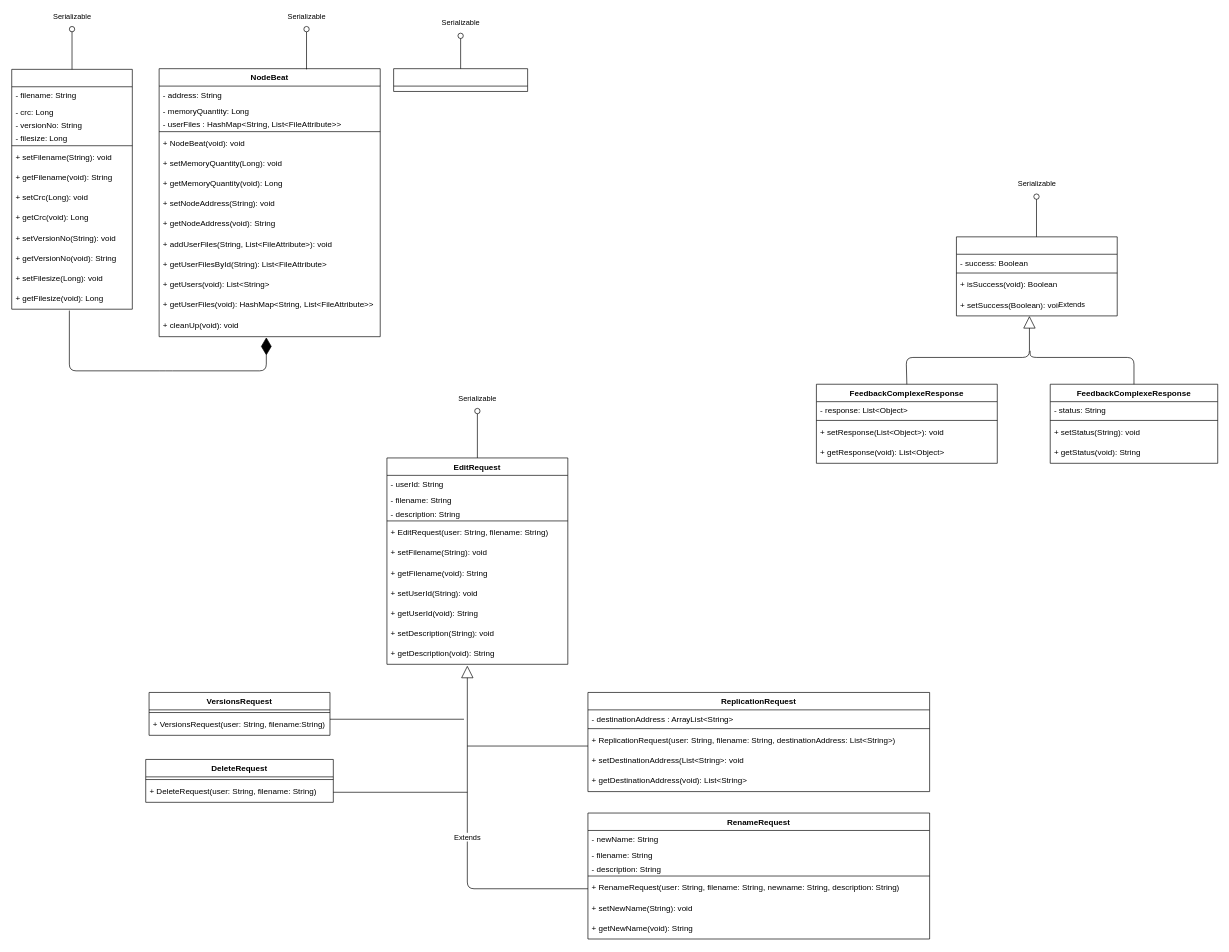
Some shapes in this 1229 by 952 pixel diagram are drawn without their labels. The shapes that lost their labels are listed below. From the top down, each one's box as (x1, y1, x2, y2) in pixels, then its label:
(393, 68, 528, 91): RequestCRC
(11, 69, 132, 309): FileAttribute
(956, 236, 1117, 316): FeedbackResponse
